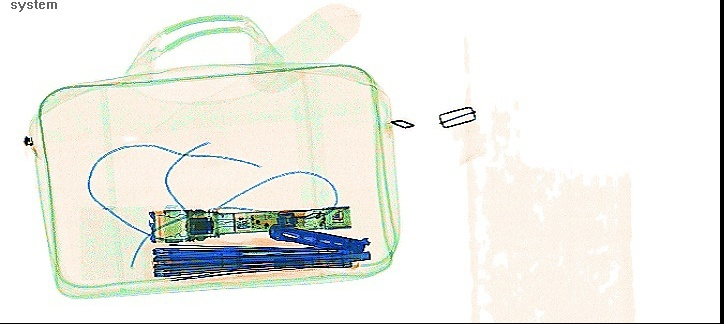knife: (267, 221, 371, 256)
